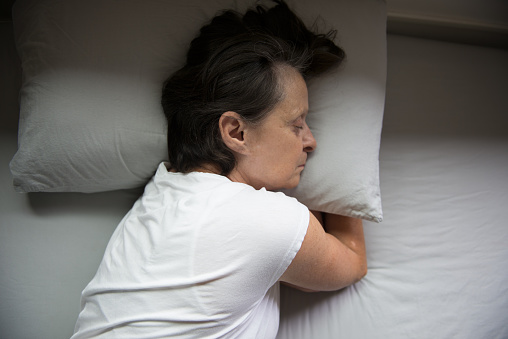deitado: (55, 24, 433, 339)
